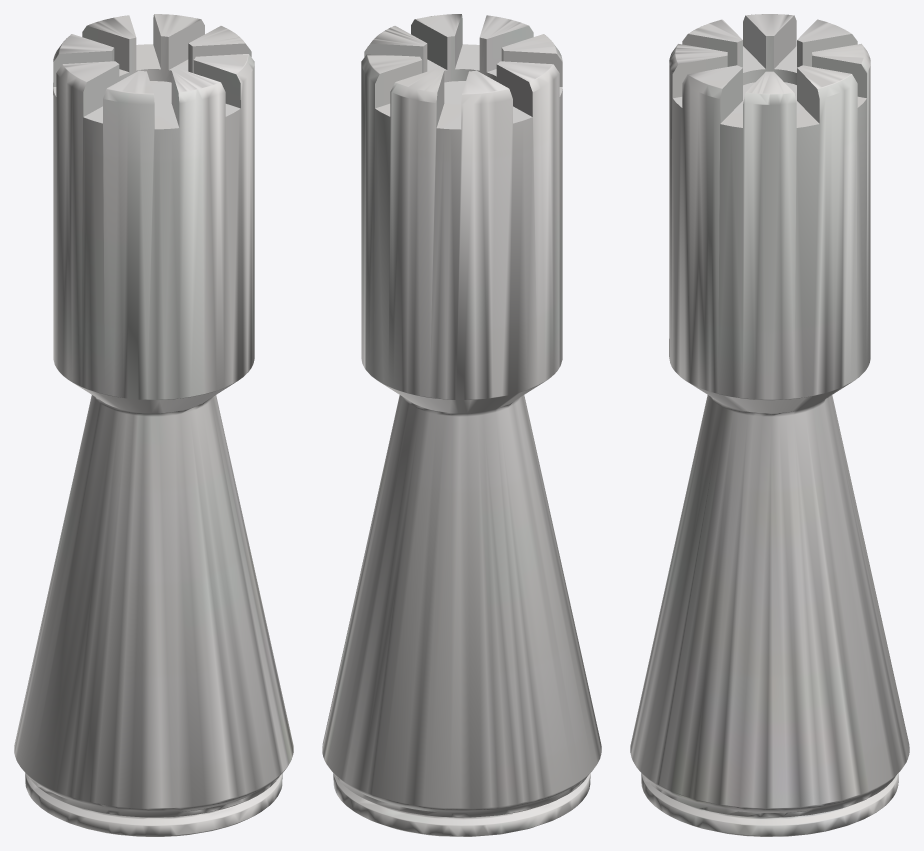
File: 01_kral_bila.glb
3 renders of one model, left to right at view 1: azimuth 30°, elevation 25°; view 2: azimuth 150°, elevation 25°; view 3: azimuth 270°, elevation 25°, orthographic.
Parts seen in each view (by area): view 1: 01_kral_bila; view 2: 01_kral_bila; view 3: 01_kral_bila.
Part boxes in pixels (x1,y1,x2,y2): 01_kral_bila: [14, 14, 293, 836]; 01_kral_bila: [322, 14, 601, 836]; 01_kral_bila: [630, 14, 909, 836].
Bounding box in the file's own units: 0.0337 × 0.0972 × 0.0338.
Materials: 1 (1 with a texture image).
